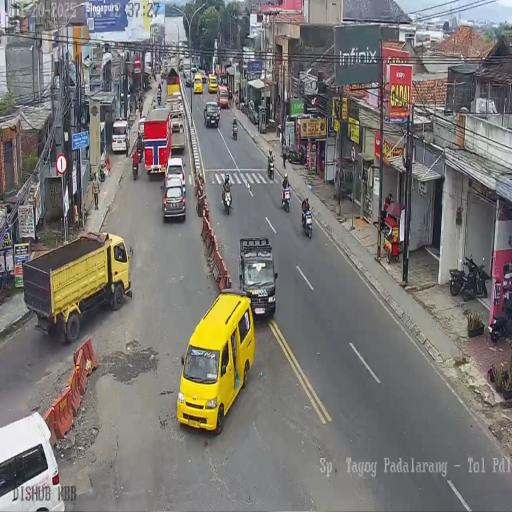3: (22, 229, 132, 344), (143, 106, 172, 177), (168, 96, 186, 153), (144, 51, 152, 77), (181, 56, 190, 74)
car: (176, 292, 256, 433), (0, 413, 63, 509), (238, 235, 276, 316), (161, 173, 186, 223), (112, 118, 130, 154), (204, 101, 220, 128), (246, 100, 259, 125), (194, 72, 204, 94), (208, 73, 218, 93), (185, 73, 192, 87), (191, 64, 197, 74), (202, 72, 206, 83)
truck: (450, 252, 489, 300), (489, 288, 511, 342), (286, 142, 305, 165), (222, 182, 232, 214), (302, 206, 312, 238), (282, 184, 290, 212), (132, 152, 139, 179), (267, 157, 274, 179), (232, 120, 238, 140), (137, 143, 143, 163), (227, 89, 233, 107), (157, 84, 162, 105), (241, 99, 247, 114), (276, 124, 282, 138), (235, 95, 239, 108)
